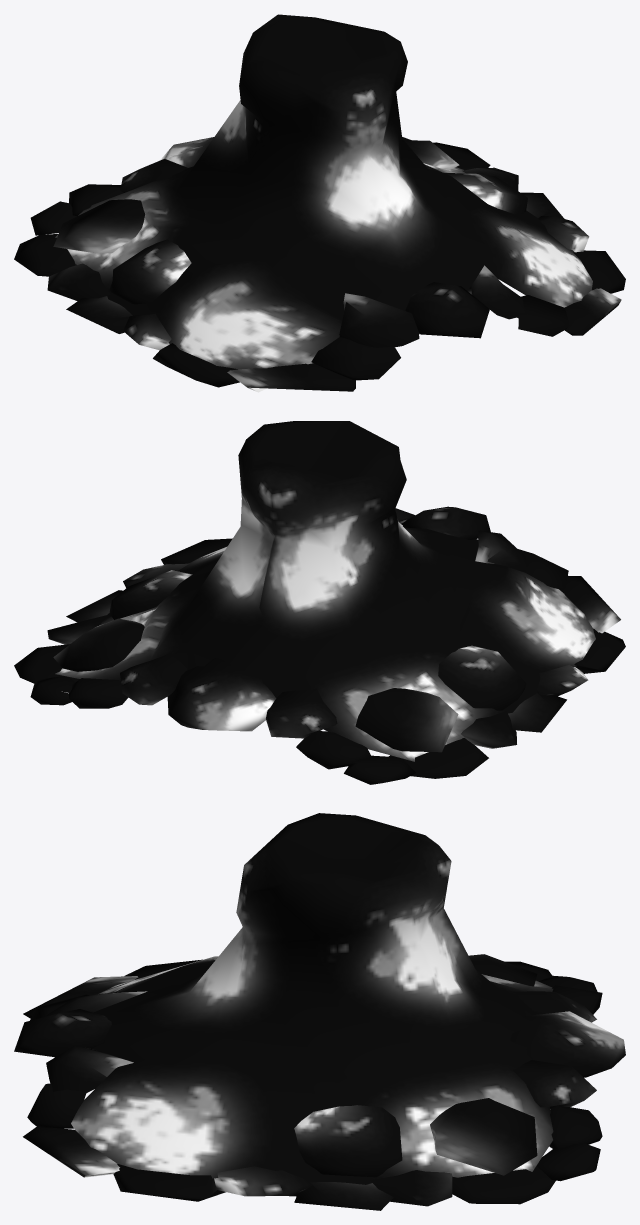
The model's file is 0324_huoshankou.glb.
3 renders of one model, top to bottom at view 1: azimuth 30°, elevation 25°; view 2: azimuth 150°, elevation 25°; view 3: azimuth 270°, elevation 25°, orthographic. The views are drawn at different scales.
Bounding box in the file's own units: 2.17 × 0.9789 × 2.2.
1 material, 1 textured.
